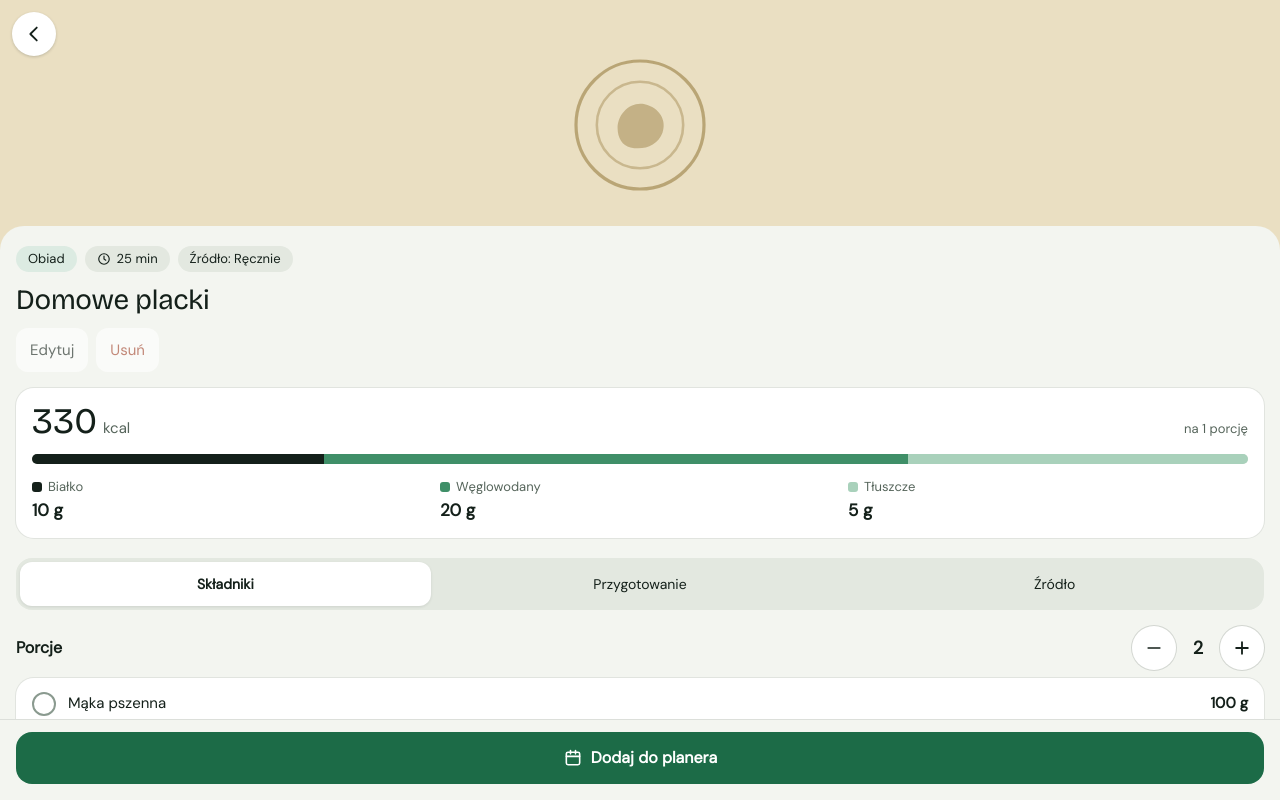
Test: błąd usuwania pozostawia szczegóły i pozwala ponowić
This screenshot has width=1280, height=800.
Click the button "Usuń".
click(128, 350)  # box [96,328,159,372]
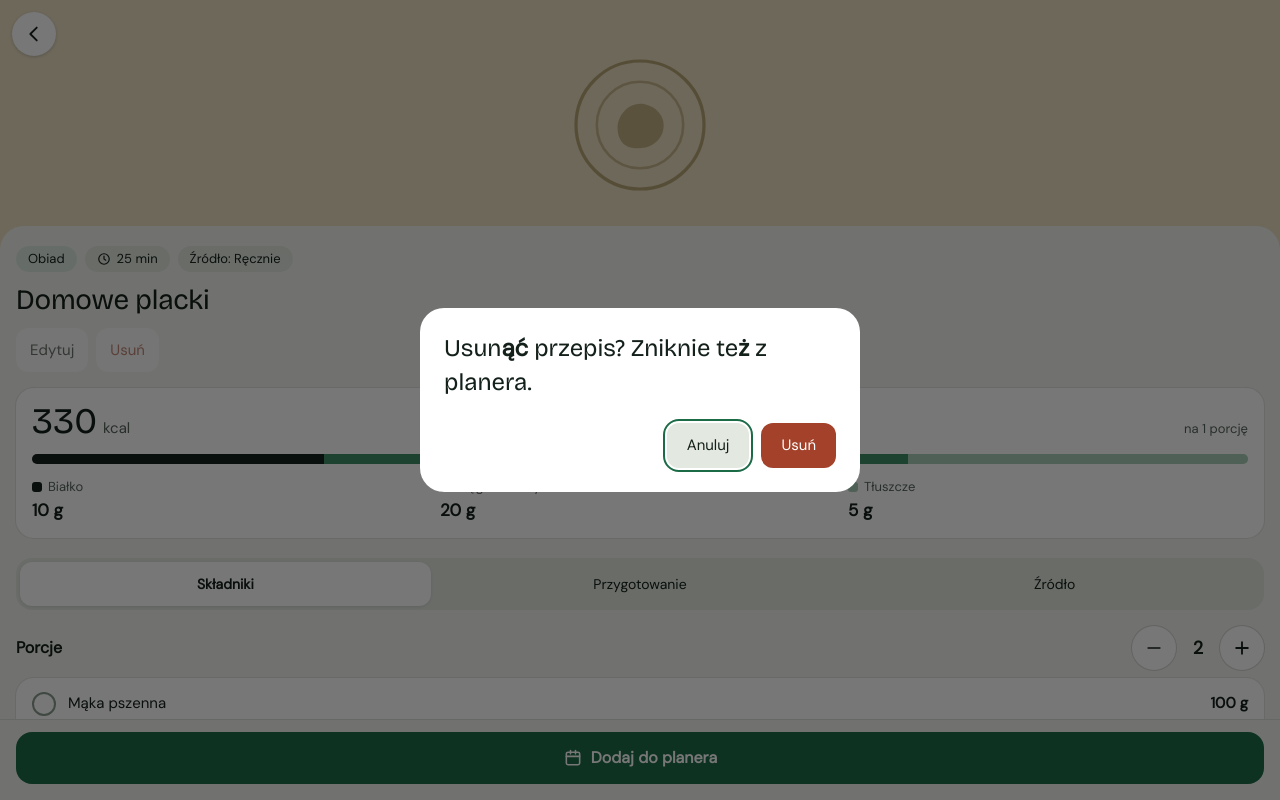
Click the button "Usuń".
click(799, 446)  # box [761,423,836,468]
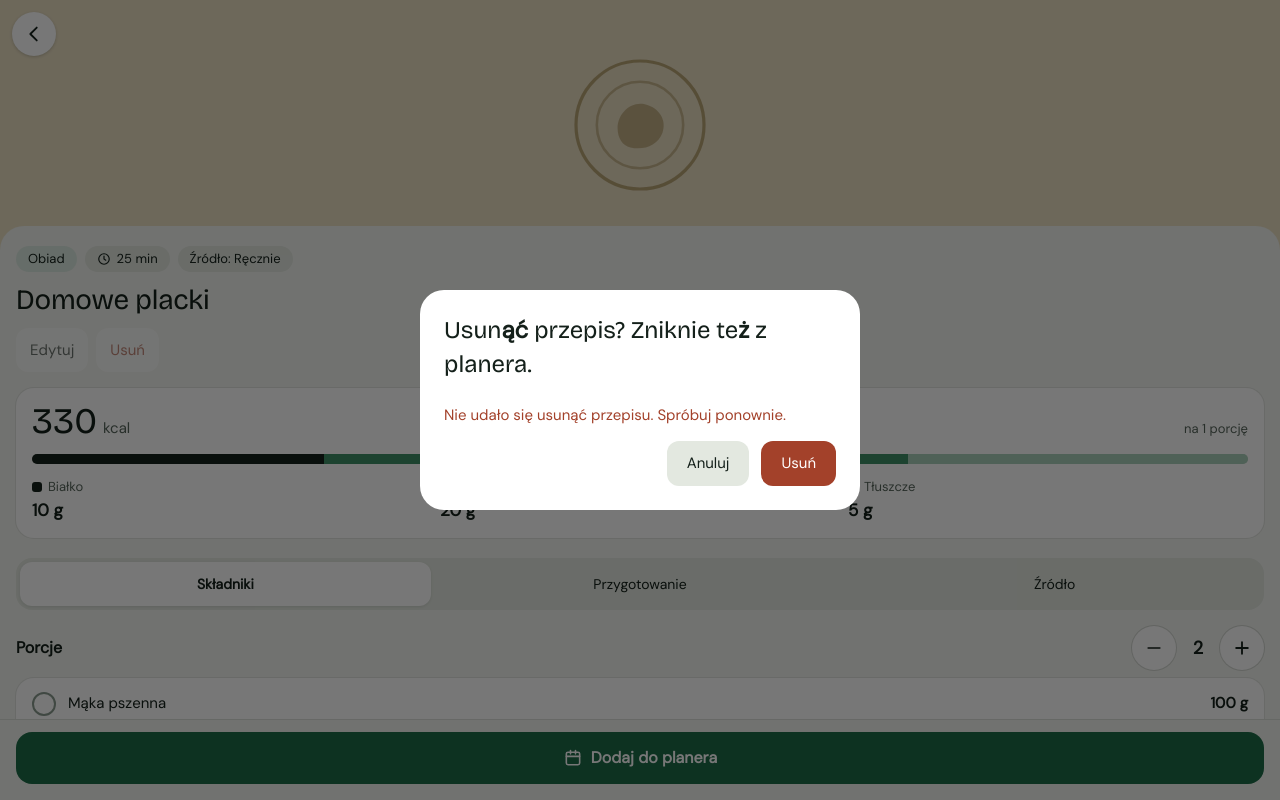
expect the heading "Domowe placki" is shown: met, box [16,283,209,317]
expect the button "Usuń" is enabled: met, box [761,441,836,486]
expect the message reads "Nie udało się usunąć przepisu. Spróbuj ponownie.": met, box [444,405,786,425]
